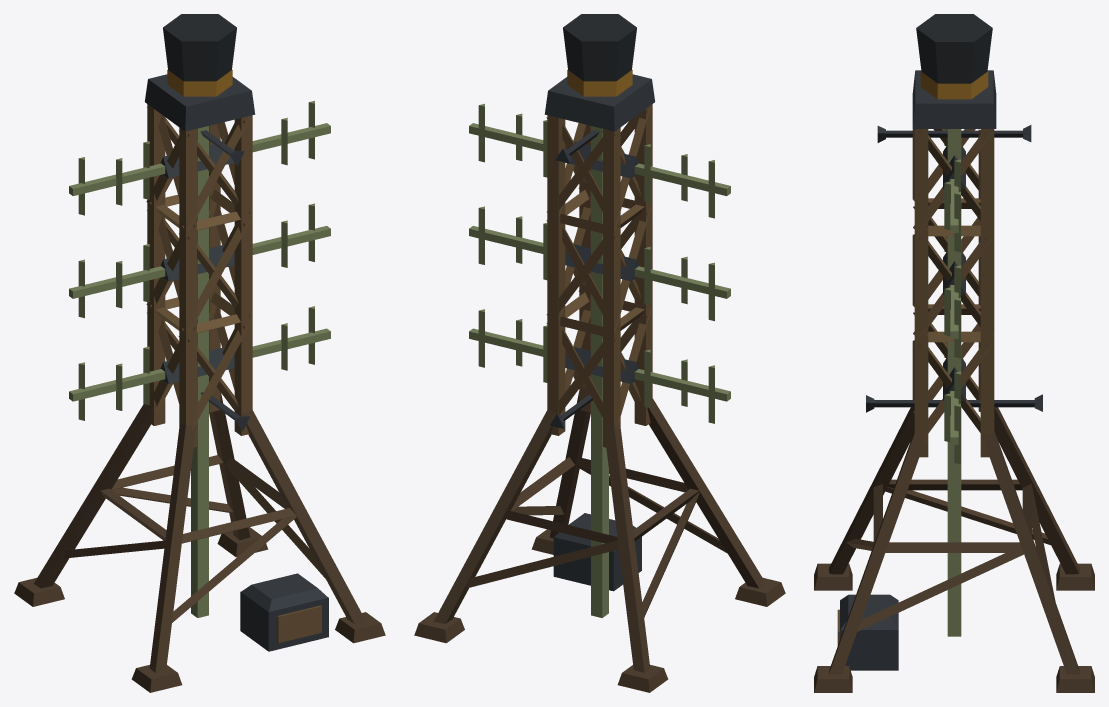
Rendered from radarAerialMast.glb.
3 views of the same model, side by side, from view 1: azimuth 30°, elevation 25°; view 2: azimuth 150°, elevation 25°; view 3: azimuth 270°, elevation 25° (orthographic). The views are drawn at different scales.
Parts seen in each view (by area): view 1: mast, drum; view 2: mast, drum; view 3: mast, drum.
Part boxes in pixels (left/top/right/bottom): mast: left=14, top=69, right=385, bottom=692; drum: left=163, top=14, right=236, bottom=81; mast: left=414, top=69, right=785, bottom=692; drum: left=563, top=14, right=636, bottom=81; mast: left=814, top=70, right=1094, bottom=692; drum: left=916, top=14, right=992, bottom=83.
Size of the model in its own units: 3.68 by 8 by 3.36.
